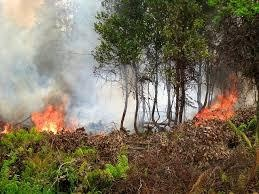fire: (193, 78, 240, 125), (27, 96, 81, 135)
